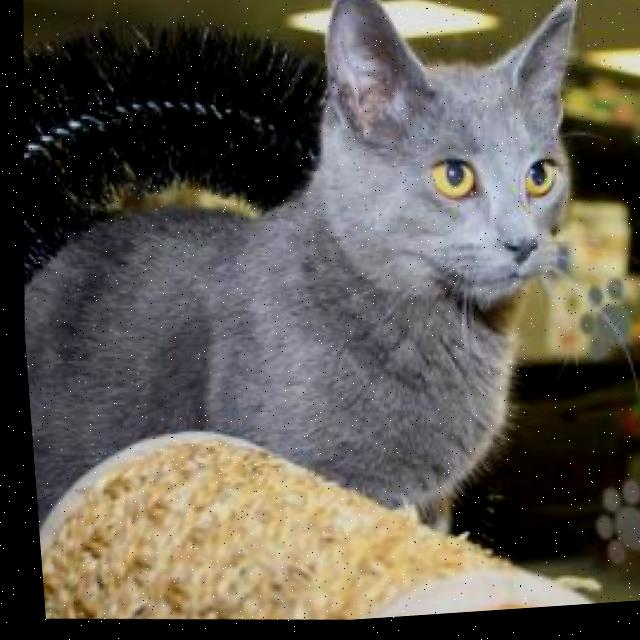Russian Blue: (0, 0, 621, 625)
